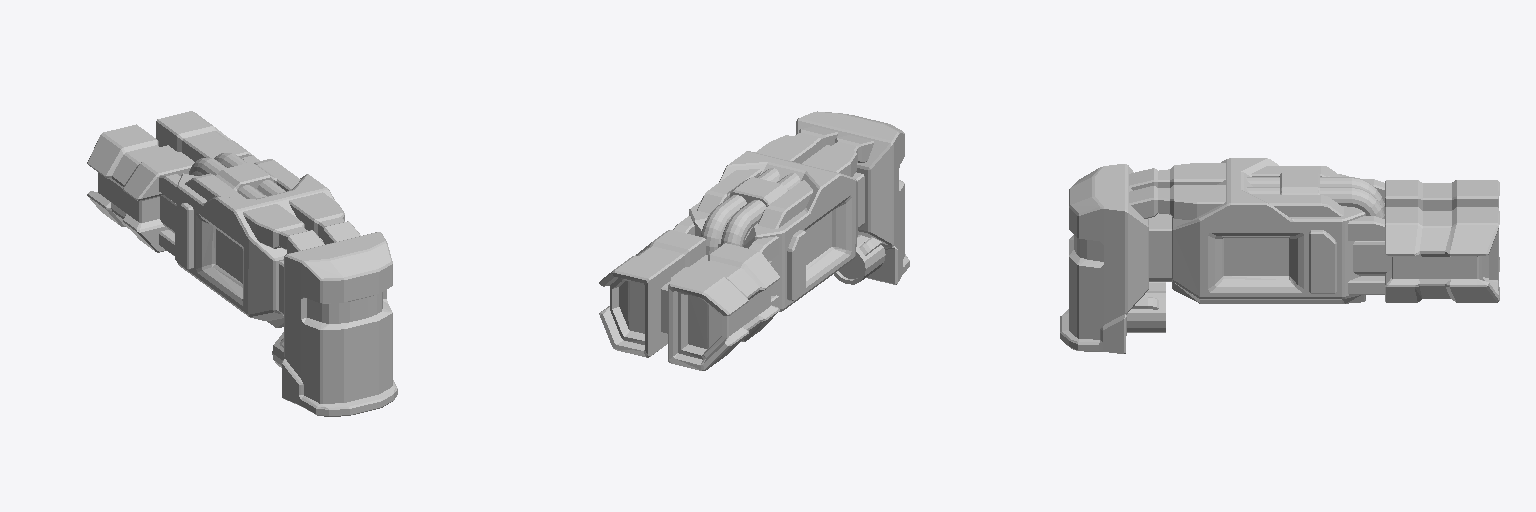
Rendered from carrier.obj.
3 views of the same model, side by side, from view 1: azimuth 30°, elevation 25°; view 2: azimuth 150°, elevation 25°; view 3: azimuth 270°, elevation 25° (orthographic).
Visible parts, largest first — view 1: carrier; view 2: carrier; view 3: carrier.
Part boxes in pixels (x1,y1,x2,y2): carrier: (87, 111, 397, 416); carrier: (599, 111, 909, 370); carrier: (1060, 158, 1499, 353).
Size of the model in its own units: 936 by 1038 by 2707.